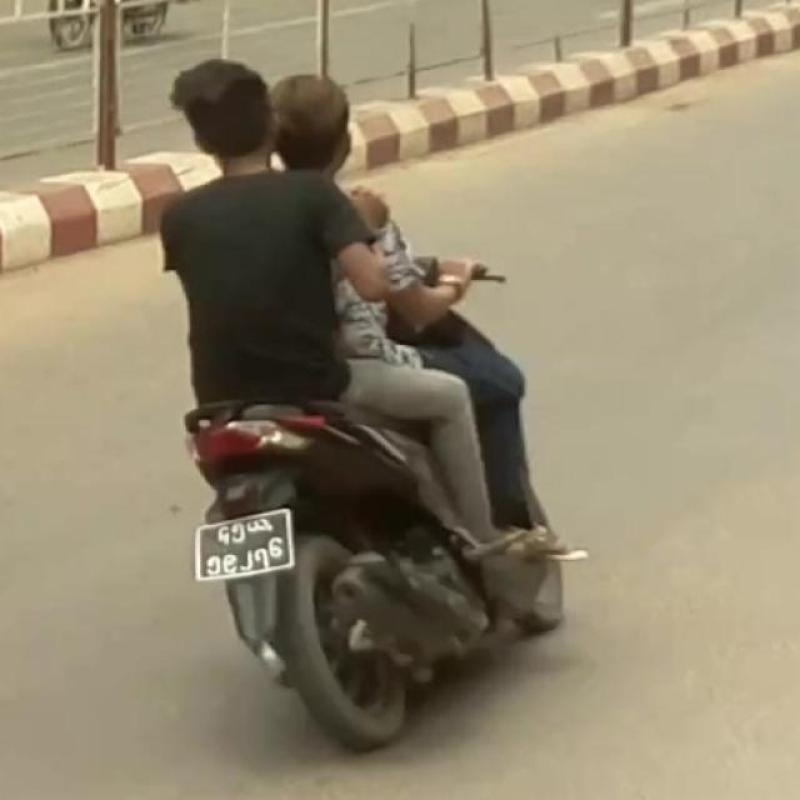nohelmet: (156, 31, 294, 194), (297, 48, 377, 191)
